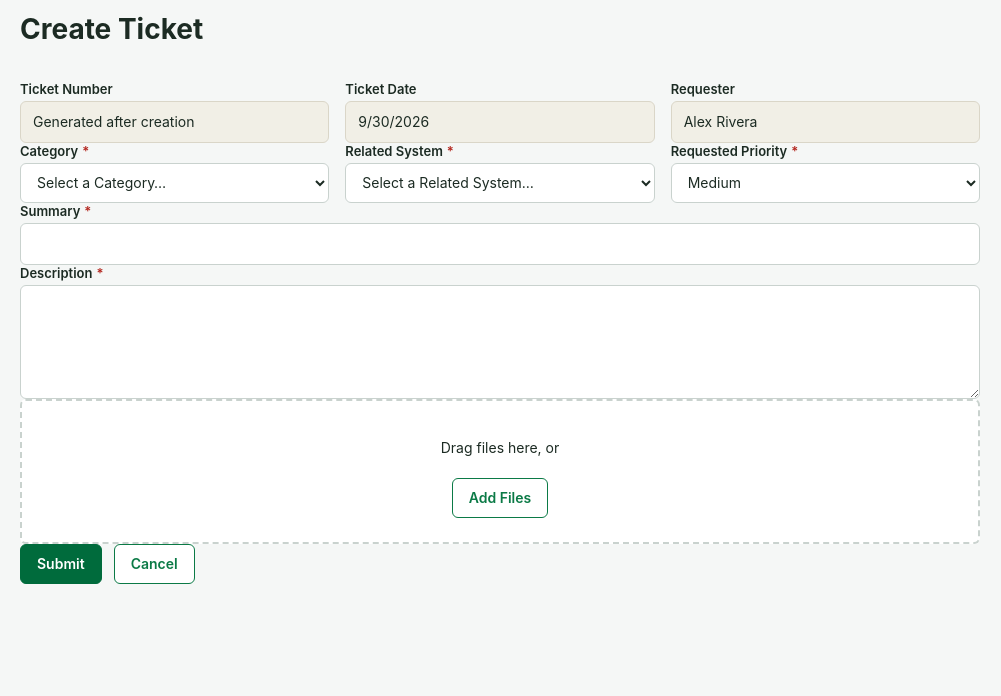
Test: CreateTicketForm › shows a failure banner and preserves entered values on a network/API failure
Select "Hardware" in the dropdown labelled "Category*" at point(175, 182), box [20,162,329,202]
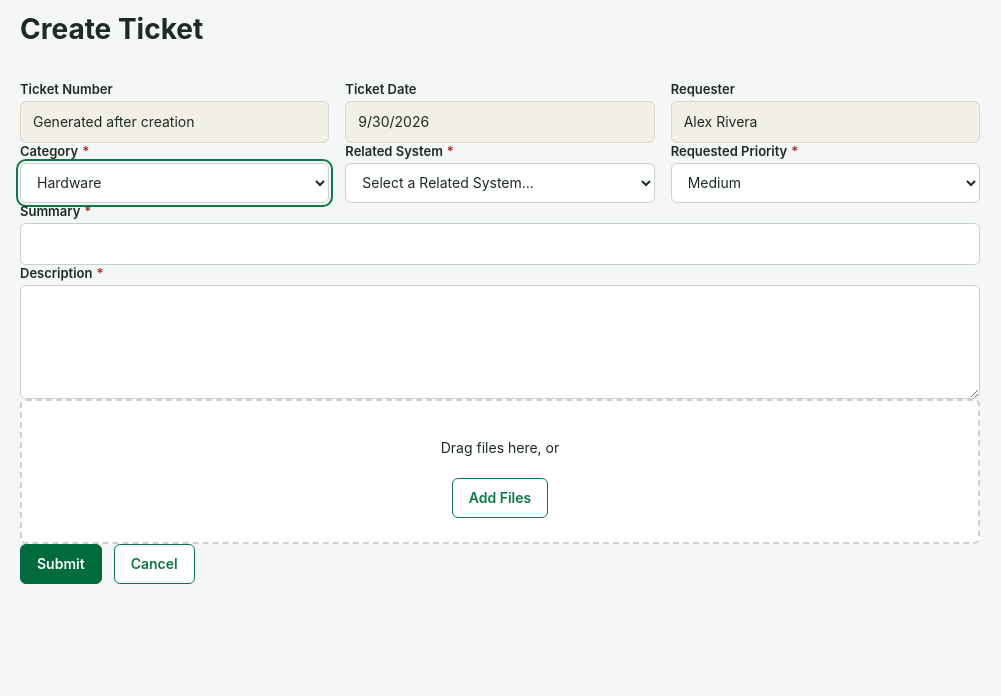
Select "Email" in the dropdown labelled "Related System*" at point(500, 182), box [345,162,655,202]
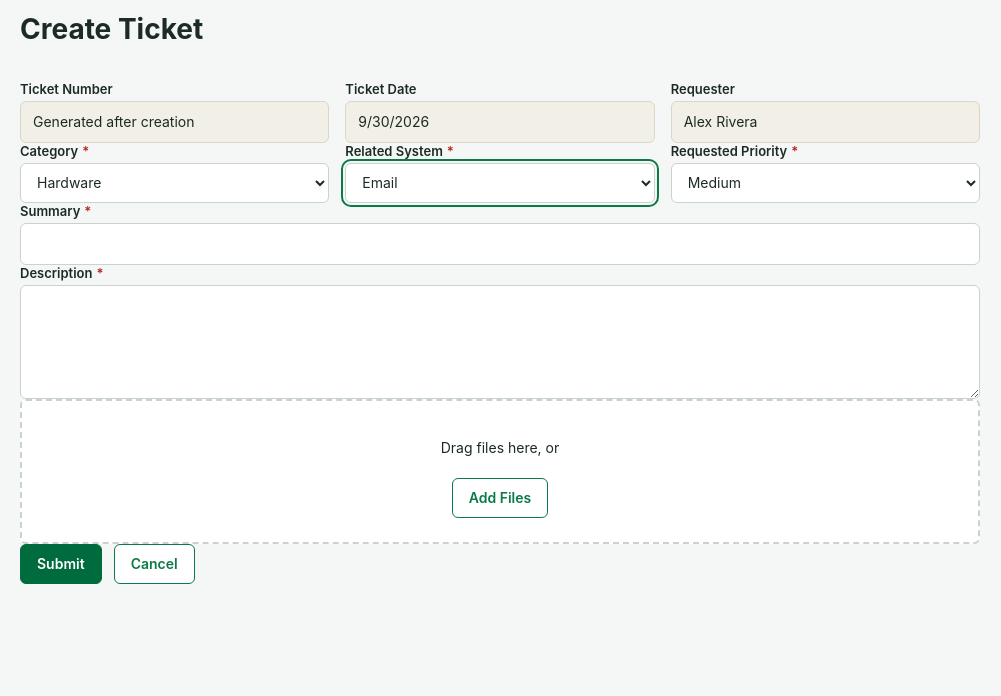
Type "Laptop won't power on" into the field labelled "Summary*" at point(500, 244), box [20,222,980,264]
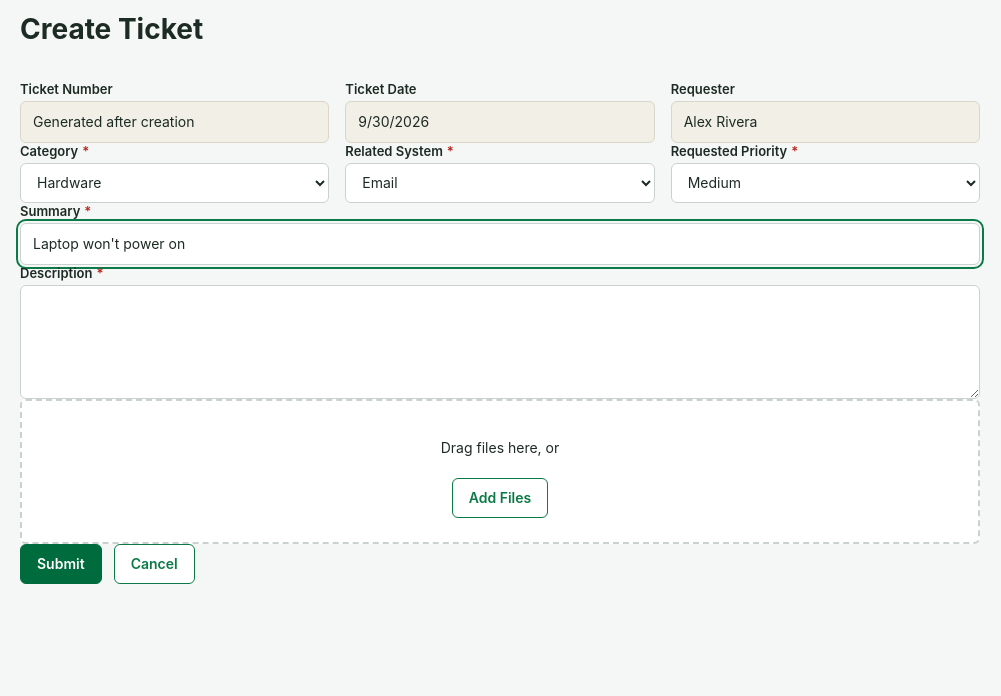
Type "Screen stays black after the firmware update finished overnight." into the text box labelled "Description*" at point(500, 342), box [20,284,980,398]
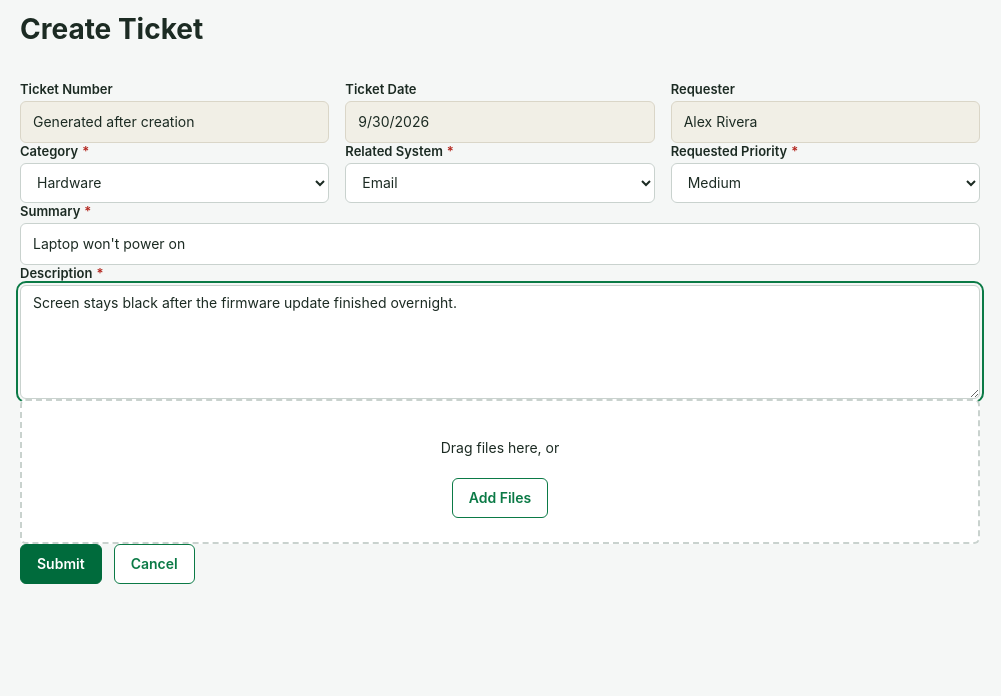
Click the button "Submit" at point(61, 564), box [20,544,102,584]
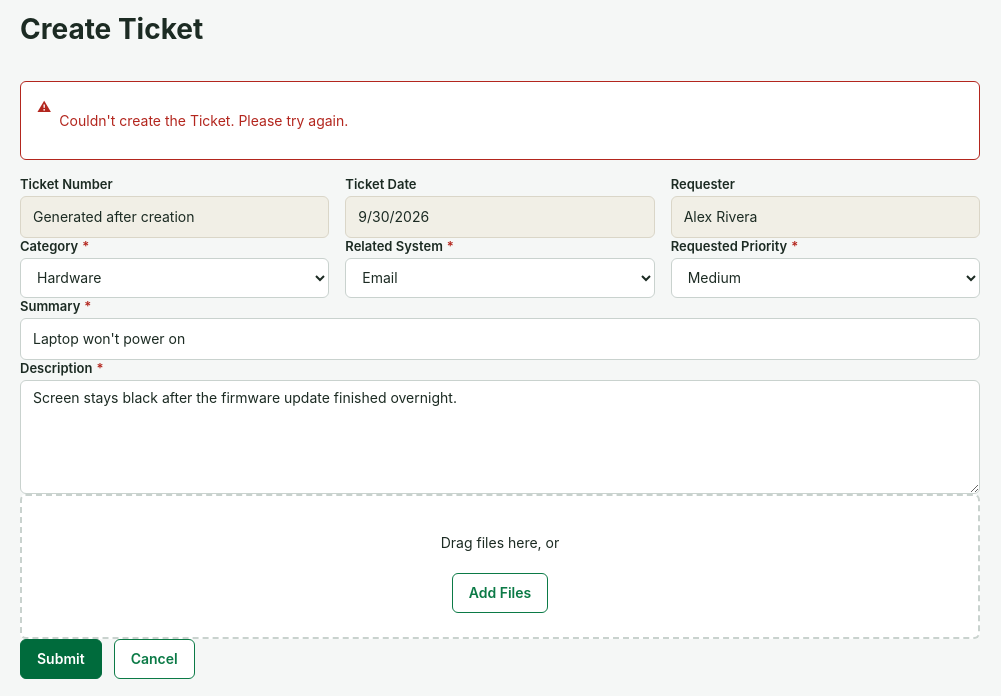
Result: the text "Couldn't create the Ticket. Please try again." is shown at [59,112,348,128]
